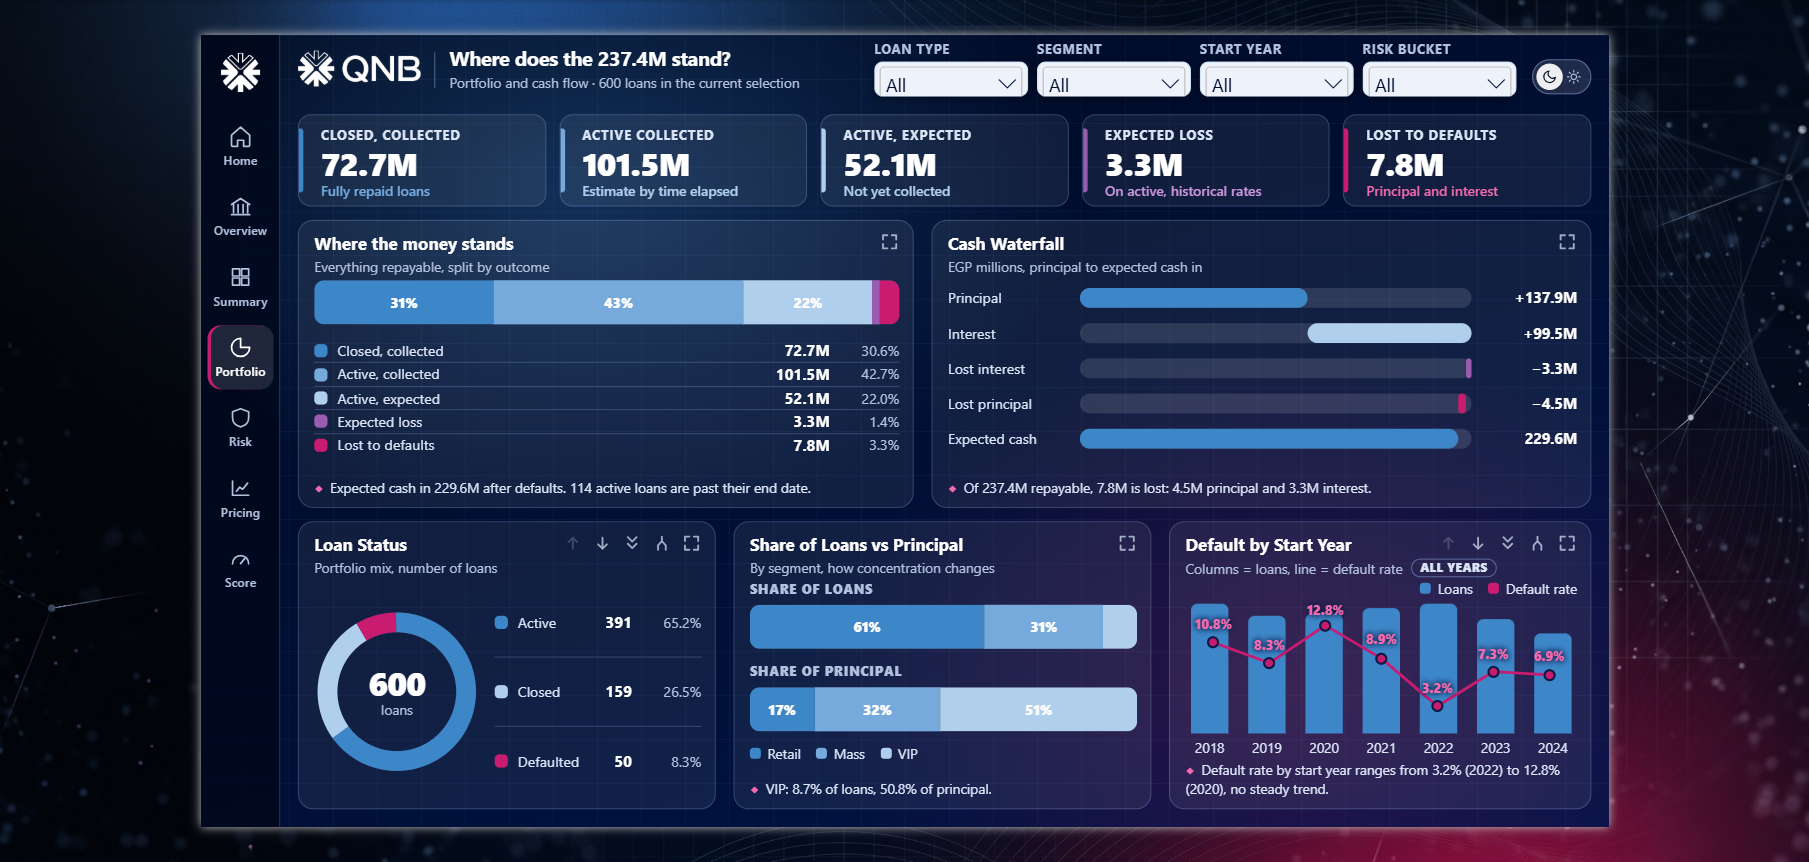

The page's visual inventory and layout, read from the dashboard file:
{"tool":"powerbi","page":{"name":"Portfolio Page","canvas":[1280,720],"ordinal":3},"visuals":[{"type":"htmlContent443BE3AD55E043BF878BED274D3A6855","fields":{"content":["HTML Visuals.page_04_portfolio"]},"box":[0,0,1280,720],"z":0},{"type":"slicer","fields":{"Values":["dim_loan_type.loan_type"]},"box":[612,24,140,32],"z":101},{"type":"slicer","fields":{"Values":["dim_customer.segment"]},"box":[760,24,140,32],"z":102},{"type":"slicer","fields":{"Values":["fact_loan.start_year"]},"box":[908,24,140,32],"z":103},{"type":"slicer","fields":{"Values":["fact_loan.risk_bucket"]},"box":[1056,24,140,32],"z":104}]}

Visuals, with their boxes on the page's 1280x720 design canvas (x1, y1, x2, y2). These are canvas units, not pixel positions in the 1809x862 screenshot, which may show the page scaled, cropped or inside an application window:
htmlContent443BE3AD55E043BF878BED274D3A6855 - HTML Visuals.page_04_portfolio: {"x1": 0, "y1": 0, "x2": 1280, "y2": 720}
slicer - dim_loan_type.loan_type: {"x1": 612, "y1": 24, "x2": 752, "y2": 56}
slicer - dim_customer.segment: {"x1": 760, "y1": 24, "x2": 900, "y2": 56}
slicer - fact_loan.start_year: {"x1": 908, "y1": 24, "x2": 1048, "y2": 56}
slicer - fact_loan.risk_bucket: {"x1": 1056, "y1": 24, "x2": 1196, "y2": 56}
